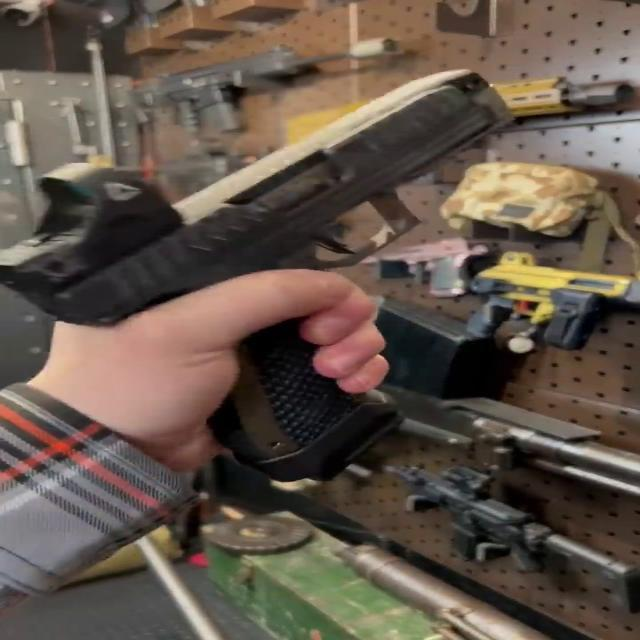Handgun: (13, 60, 529, 502)
